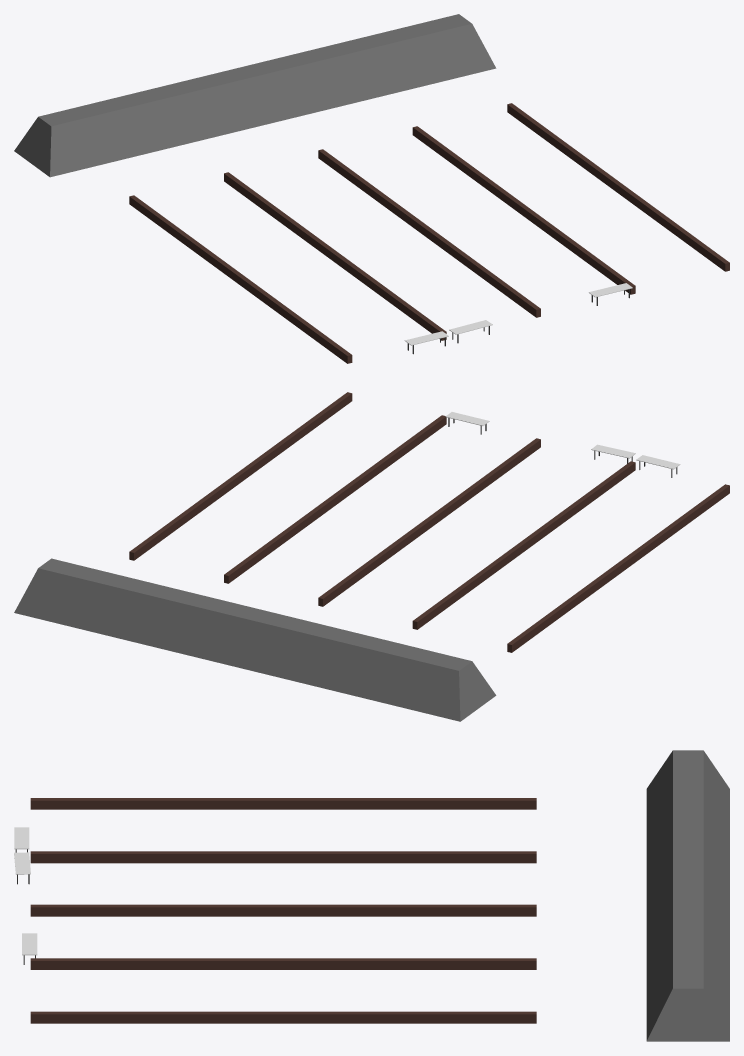
The model's file is Shooting range area.glb.
3 renders of one model, top to bottom at view 1: azimuth 30°, elevation 25°; view 2: azimuth 150°, elevation 25°; view 3: azimuth 270°, elevation 25°, orthographic. The views are drawn at different scales.
Parts seen in each view (by area): view 1: Back wall, Dividing wall; view 2: Back wall, Dividing wall; view 3: Dividing wall, Back wall.
Part boxes in pixels (bbox=[...]): Back wall: bbox=[14, 14, 496, 177]; Dividing wall: bbox=[129, 103, 729, 363]; Back wall: bbox=[14, 558, 496, 721]; Dividing wall: bbox=[129, 392, 729, 652]; Dividing wall: bbox=[30, 798, 536, 1023]; Back wall: bbox=[646, 750, 729, 1041].
Size of the model in its own units: 47.28 by 4 by 56.62.
